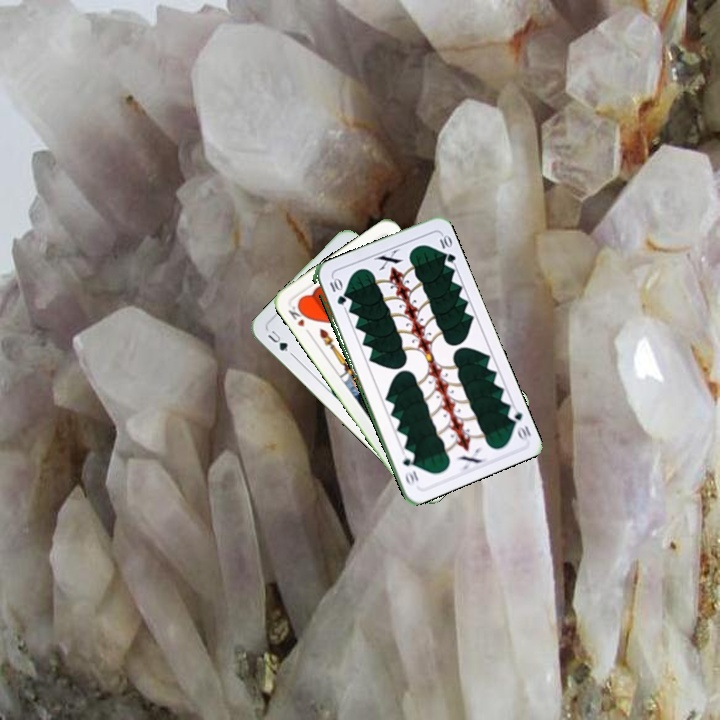G10: (503, 403, 534, 442), (325, 274, 347, 307)
GU: (263, 326, 296, 358)
HK: (284, 300, 310, 330)
